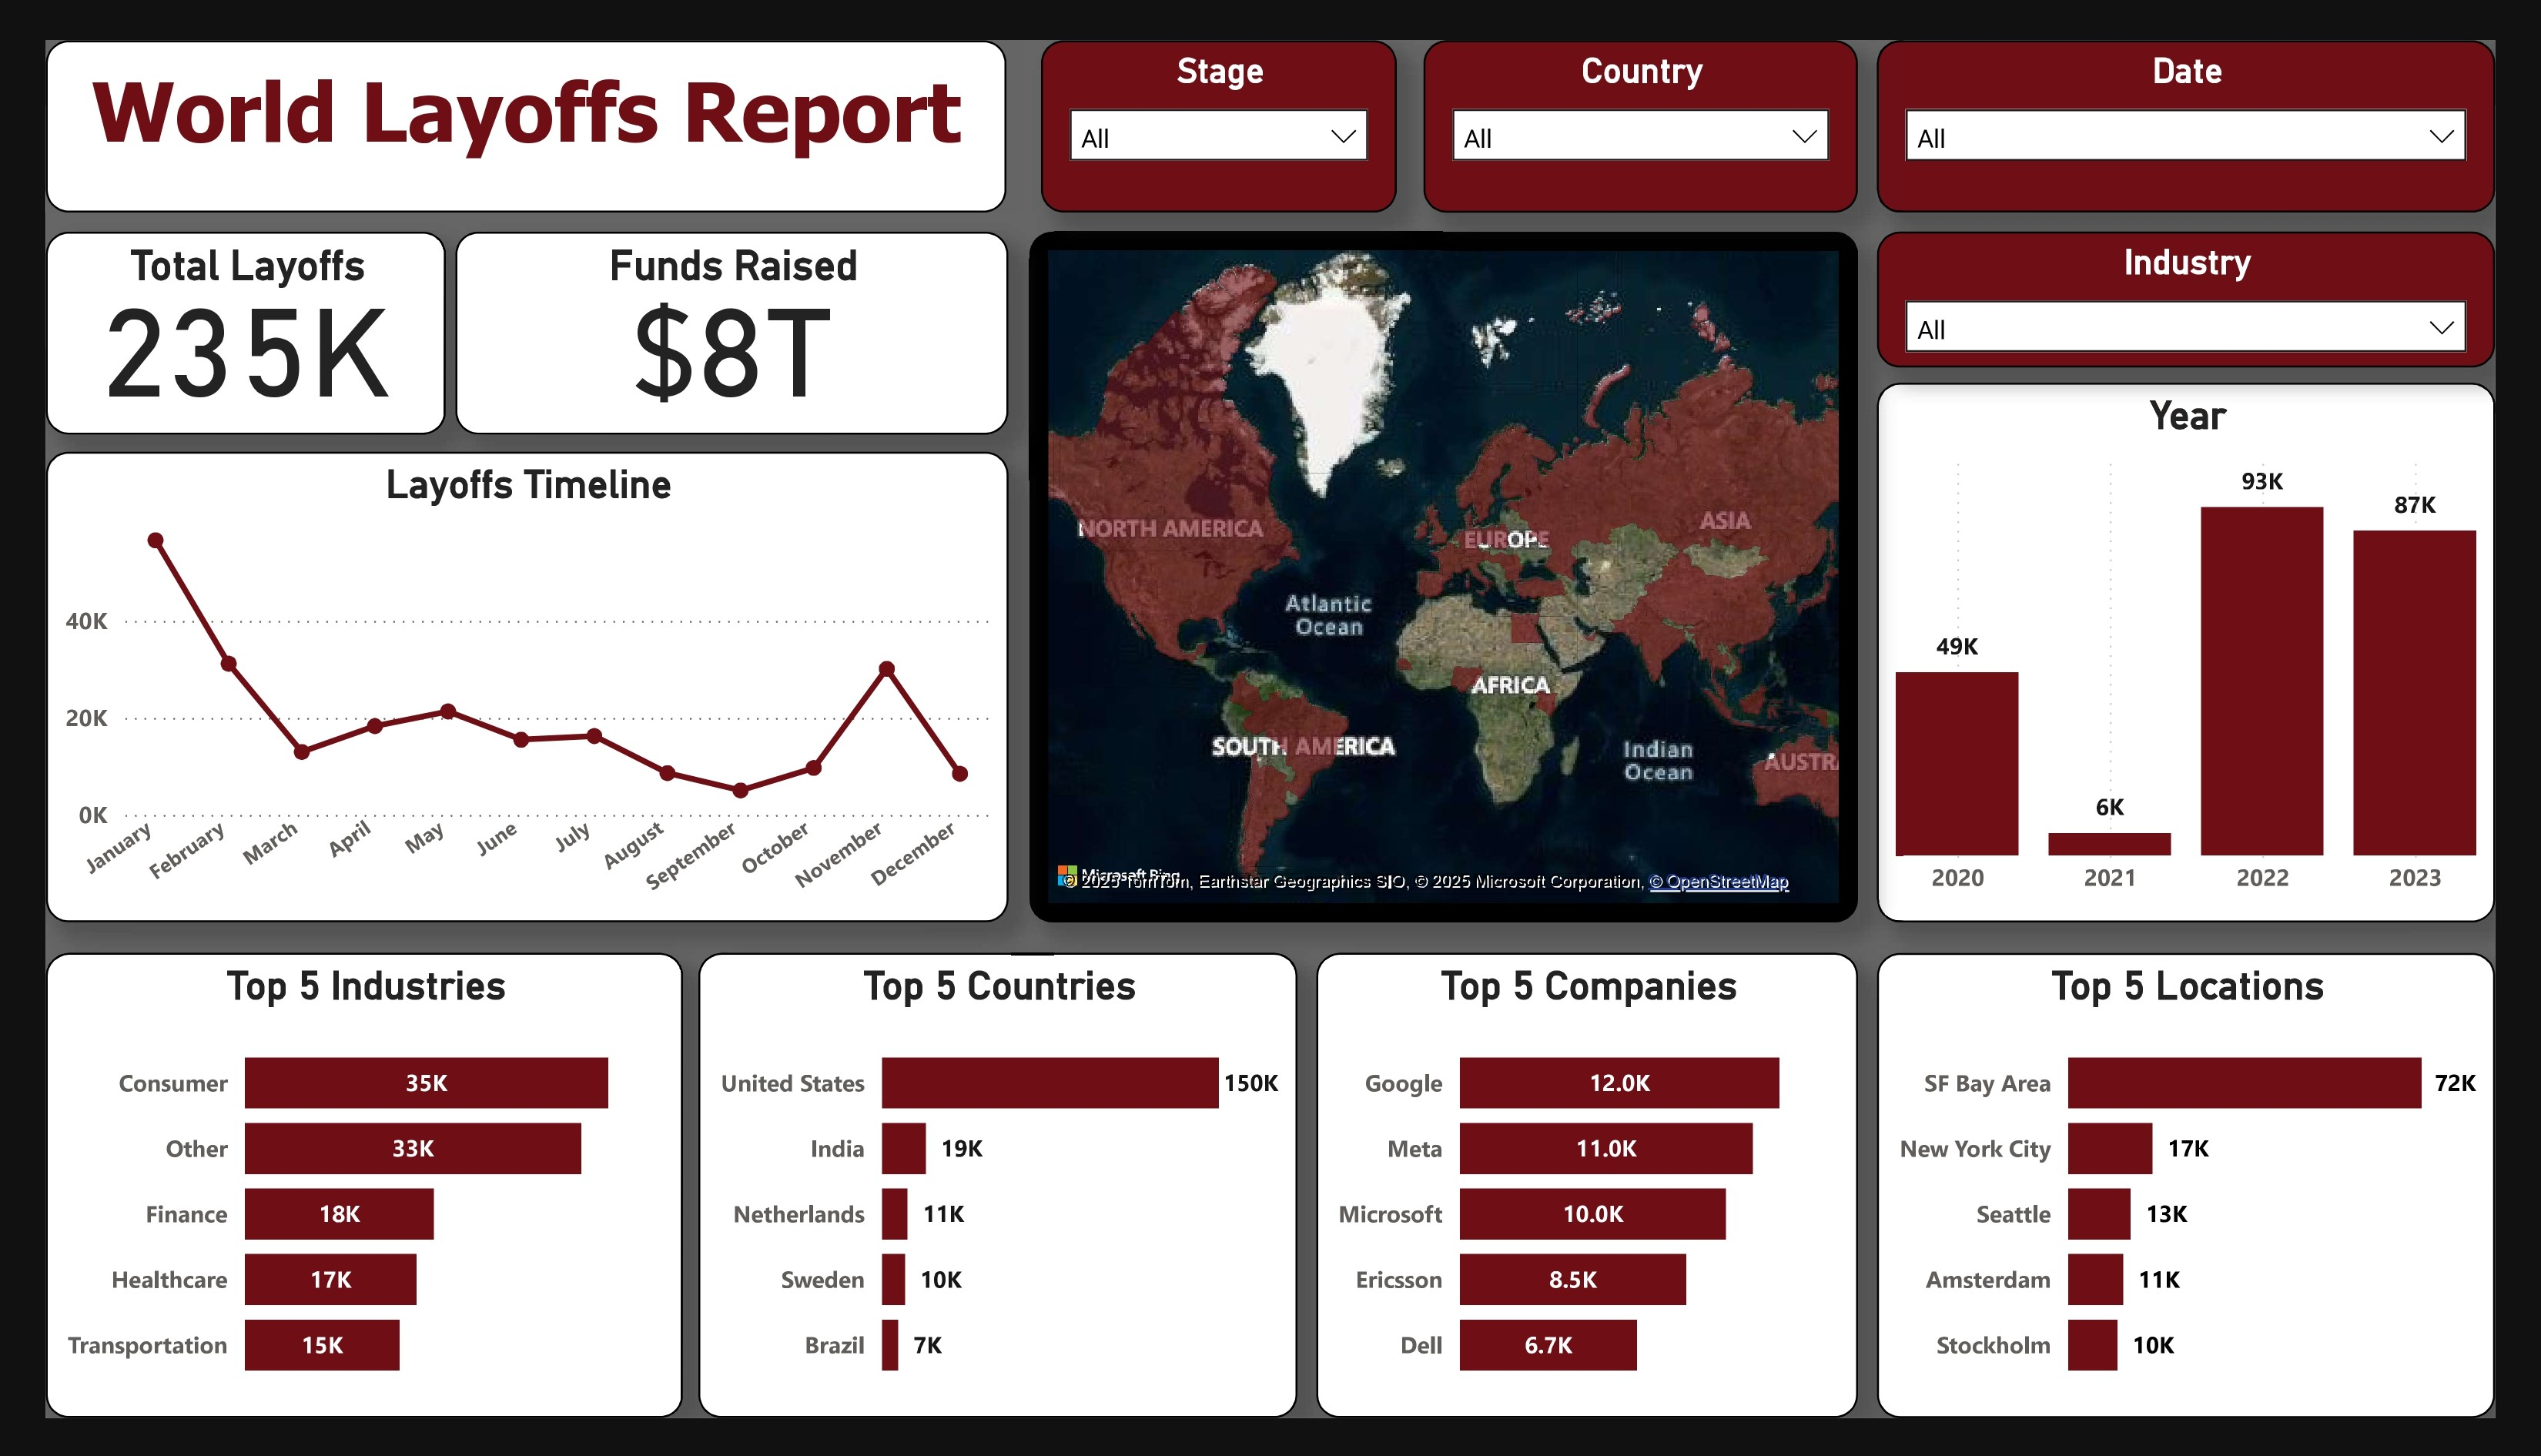

What the dashboard file says about the page in this screenshot:
{"tool":"powerbi","page":{"name":"Page 1","canvas":[1280,720],"ordinal":0},"visuals":[{"type":"columnChart","title":"Year","fields":{"Category":["world_layoffs layoffs_staging2.date.Variation.Date Hierarchy.Year"],"Y":["Sum(world_layoffs layoffs_staging2.total_laid_off)"]},"box":[957.1,178.6,322.9,282.9],"z":0},{"type":"barChart","title":"Top 5 Industries","fields":{"Category":["world_layoffs layoffs_staging2.industry"],"Y":["Sum(world_layoffs layoffs_staging2.total_laid_off)"]},"box":[0,477.1,332.9,242.9],"z":1000},{"type":"barChart","title":"Top 5 Countries","fields":{"Category":["world_layoffs layoffs_staging2.country"],"Y":["Sum(world_layoffs layoffs_staging2.total_laid_off)"]},"box":[341.4,477.1,312.9,242.9],"z":2000},{"type":"barChart","title":"Top 5 Companies","fields":{"Category":["world_layoffs layoffs_staging2.company"],"Y":["Sum(world_layoffs layoffs_staging2.total_laid_off)"]},"box":[664.3,477.1,282.9,242.9],"z":3000},{"type":"card","title":"Total Layoffs","fields":{"Values":["Sum(world_layoffs layoffs_staging2.total_laid_off)"]},"box":[0,100,208.6,105.7],"z":4000},{"type":"filledMap","fields":{"Category":["world_layoffs layoffs_staging2.country"]},"box":[514.3,100,432.9,361.4],"z":5000},{"type":"slicer","title":"Date","fields":{"Values":["world_layoffs layoffs_staging2.date"]},"box":[957.1,0,322.9,90],"z":6000},{"type":"slicer","title":"Stage","fields":{"Values":["world_layoffs layoffs_staging2.stage"]},"box":[520,0,185.7,90],"z":7000},{"type":"textbox","box":[0,0,501.7,90],"z":8000},{"type":"barChart","title":"Top 5 Locations","fields":{"Category":["world_layoffs layoffs_staging2.location"],"Y":["Sum(world_layoffs layoffs_staging2.total_laid_off)"]},"box":[957.1,477.1,322.9,242.9],"z":9000},{"type":"card","title":"Funds Raised","fields":{"Values":["Sum(world_layoffs layoffs_staging2.Funds Raised)"]},"box":[214.3,100,288.6,105.7],"z":10000},{"type":"slicer","title":"Country","fields":{"Values":["world_layoffs layoffs_staging2.country","world_layoffs layoffs_staging2.location"]},"box":[720,0,227.1,90],"z":11000},{"type":"slicer","title":"Industry","fields":{"Values":["world_layoffs layoffs_staging2.industry"]},"box":[957.1,100,322.9,71.4],"z":12000},{"type":"lineChart","title":"Layoffs Timeline ","fields":{"Category":["world_layoffs layoffs_staging2.date.Variation.Date Hierarchy.Month"],"Y":["Sum(world_layoffs layoffs_staging2.total_laid_off)"]},"box":[0,215,502.5,246.2],"z":13000}]}

Visuals, with their boxes in screenshot pixels (x1, y1, x2, y2), scaled from the page's 1280x720 canvas onto the 2541x1456 screenshot:
"Year" columnChart: x1=1900 y1=361 x2=2540 y2=933
"Top 5 Industries" barChart: x1=0 y1=965 x2=661 y2=1455
"Top 5 Countries" barChart: x1=678 y1=965 x2=1299 y2=1455
"Top 5 Companies" barChart: x1=1319 y1=965 x2=1880 y2=1455
"Total Layoffs" card: x1=0 y1=203 x2=414 y2=416
filledMap - world_layoffs layoffs_staging2.country: x1=1021 y1=203 x2=1880 y2=933
"Date" slicer: x1=1900 y1=0 x2=2540 y2=182
"Stage" slicer: x1=1033 y1=0 x2=1401 y2=182
textbox: x1=0 y1=0 x2=996 y2=182
"Top 5 Locations" barChart: x1=1900 y1=965 x2=2540 y2=1455
"Funds Raised" card: x1=425 y1=203 x2=999 y2=416
"Country" slicer: x1=1429 y1=0 x2=1880 y2=182
"Industry" slicer: x1=1900 y1=203 x2=2540 y2=346
"Layoffs Timeline " lineChart: x1=0 y1=435 x2=998 y2=932
